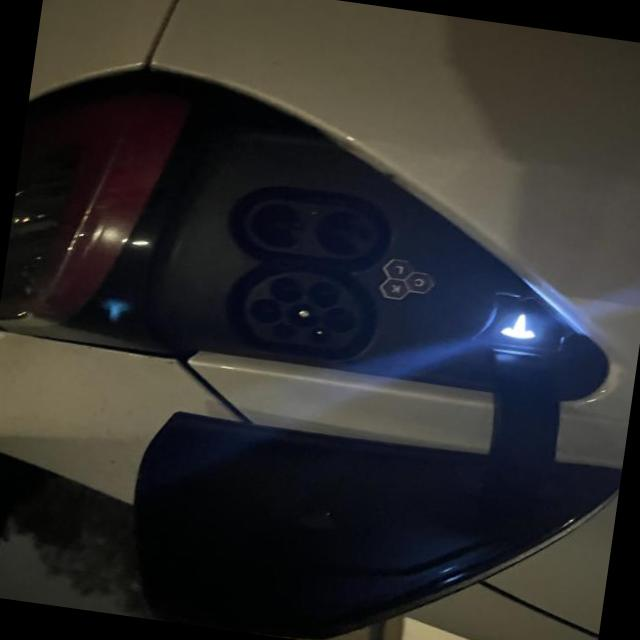inlet: (245, 272, 359, 349)
inlet-above-left: (307, 327, 331, 344)
inlet-above-right: (271, 323, 294, 338)
inlet-below-left: (307, 281, 338, 307)
inlet-below-right: (269, 277, 300, 302)
inlet-center: (286, 303, 317, 327)
inlet-center-left: (322, 307, 356, 331)
inlet-center-right: (249, 298, 281, 322)
